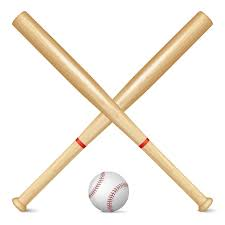baseball bat: (12, 12, 213, 212), (11, 12, 213, 211)
